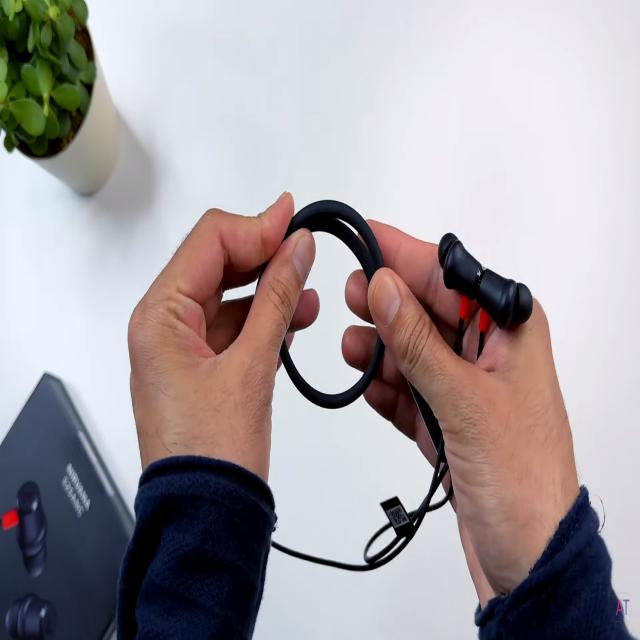Neckband: (254, 198, 534, 572)
